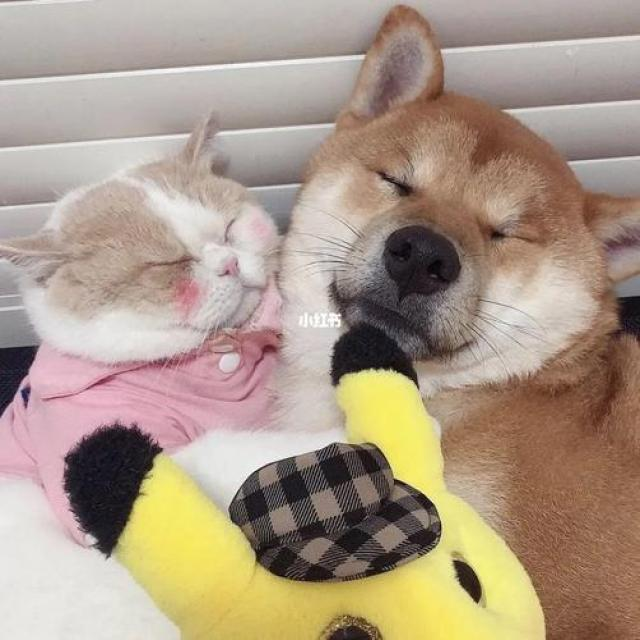cat: (0, 118, 287, 397)
dog: (301, 0, 640, 462)
